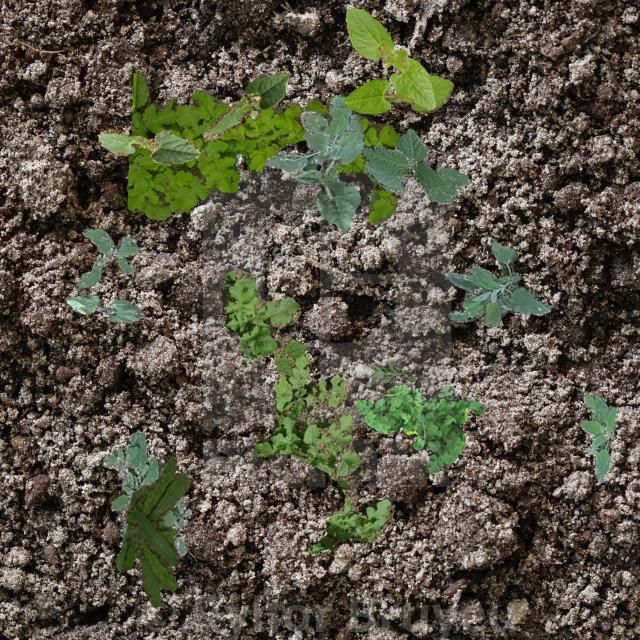crop: (344, 7, 434, 108), (290, 110, 364, 232), (360, 128, 470, 202), (203, 68, 290, 140), (343, 73, 452, 113), (96, 128, 200, 164), (66, 294, 142, 320)
weed: (220, 266, 394, 552), (128, 72, 398, 224), (101, 428, 190, 556), (114, 454, 188, 606), (444, 240, 550, 326), (264, 94, 356, 172), (414, 384, 482, 472), (354, 384, 426, 448), (75, 228, 138, 288), (580, 394, 616, 482), (370, 360, 414, 382), (300, 157, 338, 180)
